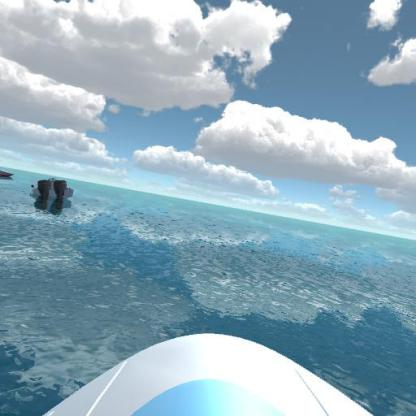usv1: (34, 170, 80, 207)
usv3: (0, 161, 15, 181)
